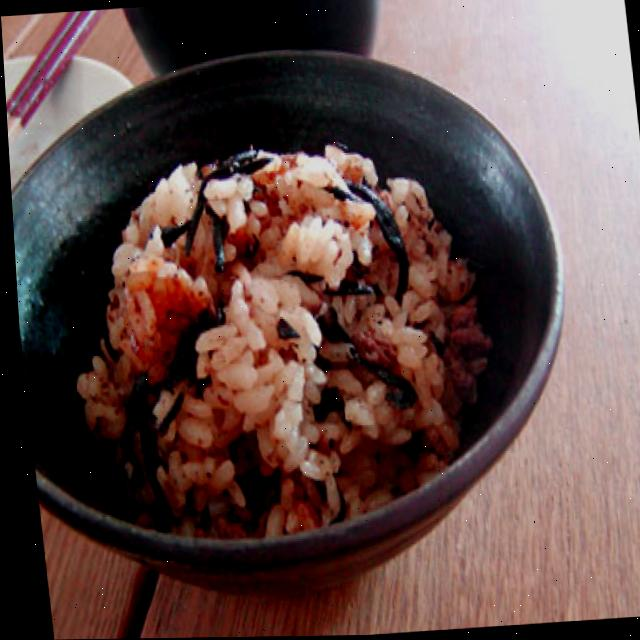米饭主食: (62, 151, 488, 544)
